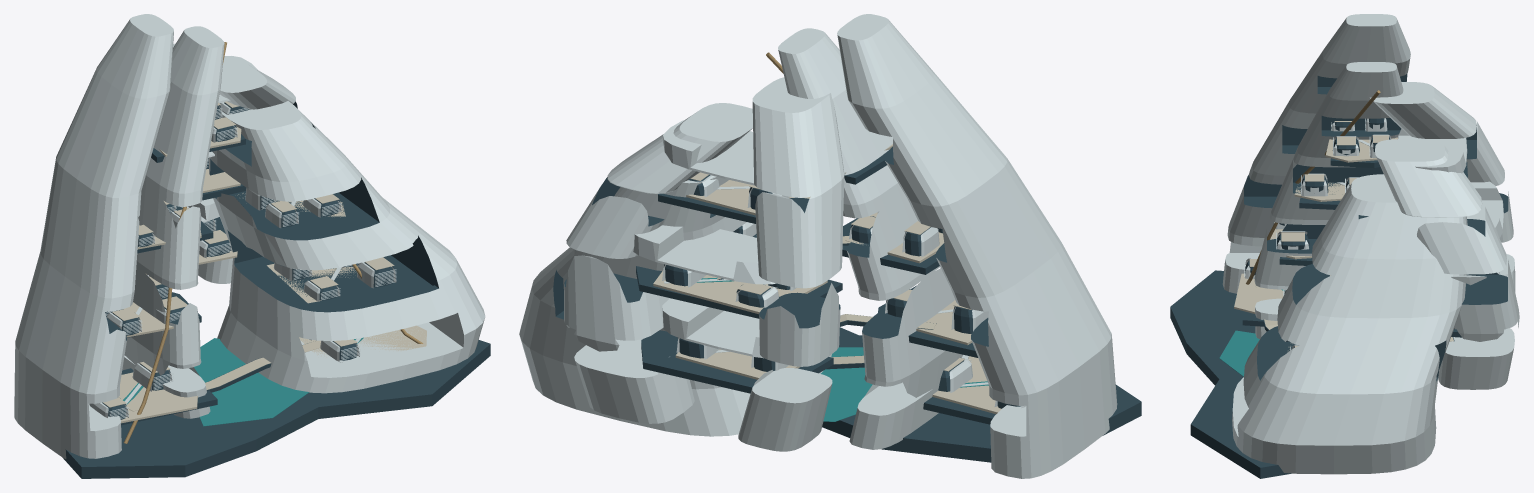
Rendered from R17_REVISION_1.glb.
The picture shows the model from 3 angles, left to right: view 1: azimuth 30°, elevation 25°; view 2: azimuth 150°, elevation 25°; view 3: azimuth 270°, elevation 25°; orthographic projection. The views are drawn at different scales.
Visible parts, largest first — view 1: C_EAST_INLAND, R1_WEST_OCEAN_RIDGE, R1_WEST_INNER_RIDGE, C_LOWEST_URBAN_DELTA, C_SHARED_INNER_SEA, R1_REAR_EAST_RIDGE, C_W0_ESTUARY_public_ground, C_E0_TIDAL_WORLD_public_ground, C_LOW_CONFLUENCE_public_surface, C_PRIMARY_ASCENSION, C_E1_SPLIT_CITY_public_ground, C_W1_RISING_GARDENS_public_ground (+1 smaller); view 2: R1_WEST_OCEAN_RIDGE, R1_REAR_WEST_RIDGE, R1_REAR_EAST_RIDGE, R1_WEST_INNER_RIDGE, C_EAST_INLAND, C_LOWEST_URBAN_DELTA, R1_REAR_CIVIC_OVERWORLD.001, R1_REAR_CIVIC_OVERWORLD, R1_REAR_LOWER_thick_inhabited_ground, R1_REAR_CIVIC_OVERWORLD.002, C_SHARED_INNER_SEA, C_R1_DEEP_METROPOLIS_public_ground (+9 smaller); view 3: C_EAST_INLAND, R1_REAR_EAST_RIDGE, R1_WEST_OCEAN_RIDGE, R1_WEST_INNER_RIDGE, C_LOWEST_URBAN_DELTA, R1_REAR_WEST_RIDGE, R1_REAR_CIVIC_OVERWORLD.001, C_SHARED_INNER_SEA, R1_REAR_CIVIC_OVERWORLD.002, C_W0_ESTUARY_public_ground, C_PRIMARY_ASCENSION, C_W3_ZENITH_QUARTER_public_ground (+1 smaller).
Part boxes in pixels (left/top/right/bottom): C_EAST_INLAND: left=208, top=101, right=485, bottom=393; R1_WEST_OCEAN_RIDGE: left=14, top=14, right=173, bottom=458; R1_WEST_INNER_RIDGE: left=122, top=26, right=224, bottom=418; C_LOWEST_URBAN_DELTA: left=62, top=340, right=490, bottom=478; C_SHARED_INNER_SEA: left=194, top=338, right=309, bottom=426; R1_REAR_EAST_RIDGE: left=198, top=59, right=297, bottom=283; C_W0_ESTUARY_public_ground: left=119, top=372, right=197, bottom=423; C_E0_TIDAL_WORLD_public_ground: left=299, top=325, right=426, bottom=357; C_LOW_CONFLUENCE_public_surface: left=126, top=340, right=320, bottom=411; C_PRIMARY_ASCENSION: left=123, top=42, right=226, bottom=443; C_E1_SPLIT_CITY_public_ground: left=267, top=264, right=357, bottom=303; C_W1_RISING_GARDENS_public_ground: left=124, top=302, right=173, bottom=337; R1_WEST_OCEAN_RIDGE: left=837, top=14, right=1117, bottom=478; R1_REAR_WEST_RIDGE: left=738, top=77, right=844, bottom=451; R1_REAR_EAST_RIDGE: left=564, top=103, right=752, bottom=423; R1_WEST_INNER_RIDGE: left=778, top=28, right=968, bottom=449; C_EAST_INLAND: left=519, top=131, right=831, bottom=436; C_LOWEST_URBAN_DELTA: left=822, top=327, right=1141, bottom=462; R1_REAR_CIVIC_OVERWORLD.001: left=633, top=225, right=776, bottom=284; R1_REAR_CIVIC_OVERWORLD: left=662, top=298, right=763, bottom=358; R1_REAR_LOWER_thick_inhabited_ground: left=641, top=330, right=833, bottom=393; R1_REAR_CIVIC_OVERWORLD.002: left=663, top=120, right=754, bottom=185; C_SHARED_INNER_SEA: left=820, top=347, right=872, bottom=421; C_R1_DEEP_METROPOLIS_public_ground: left=653, top=270, right=827, bottom=314; C_EAST_INLAND: left=1232, top=174, right=1467, bottom=474; R1_REAR_EAST_RIDGE: left=1375, top=139, right=1519, bottom=389; R1_WEST_OCEAN_RIDGE: left=1222, top=14, right=1410, bottom=293; R1_WEST_INNER_RIDGE: left=1254, top=62, right=1403, bottom=338; C_LOWEST_URBAN_DELTA: left=1170, top=270, right=1291, bottom=478; R1_REAR_WEST_RIDGE: left=1370, top=82, right=1515, bottom=291; R1_REAR_CIVIC_OVERWORLD.001: left=1467, top=181, right=1503, bottom=238; C_SHARED_INNER_SEA: left=1219, top=330, right=1259, bottom=376; R1_REAR_CIVIC_OVERWORLD.002: left=1398, top=129, right=1467, bottom=173; C_W0_ESTUARY_public_ground: left=1234, top=273, right=1283, bottom=313; C_PRIMARY_ASCENSION: left=1246, top=90, right=1380, bottom=284; C_W3_ZENITH_QUARTER_public_ground: left=1325, top=137, right=1397, bottom=162.
Bounding box in the file's own units: 5800 × 4470 × 4270.
